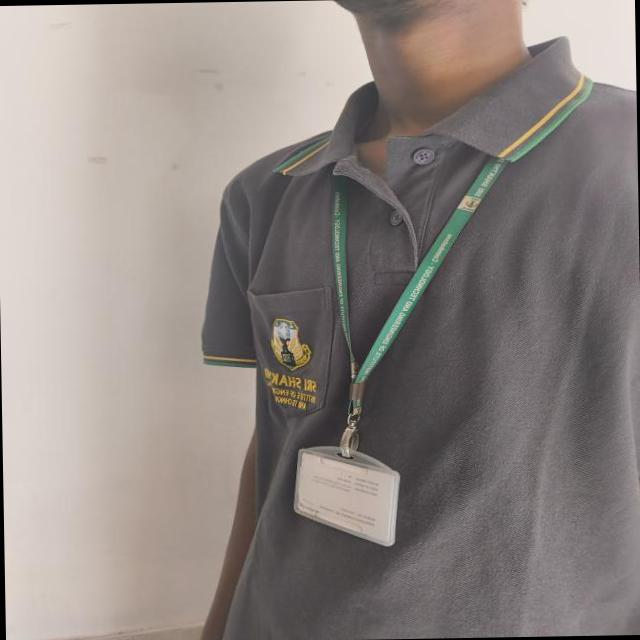id_card: (284, 157, 503, 550)
